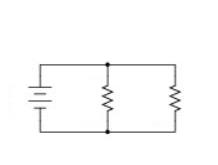resistor: (157, 77, 186, 119), (96, 78, 123, 117)
